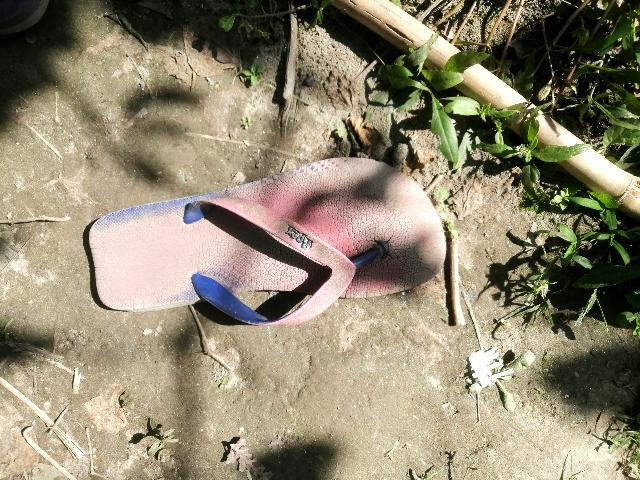sandal: (81, 138, 451, 381)
